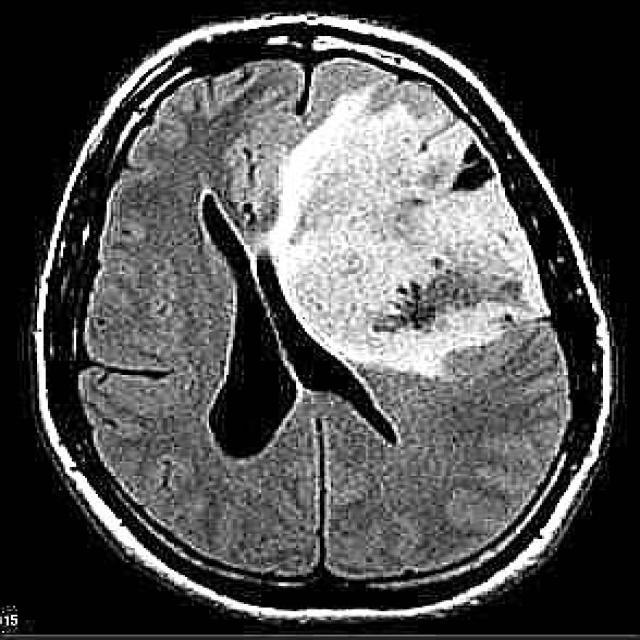brain tumor: (272, 79, 549, 375)
